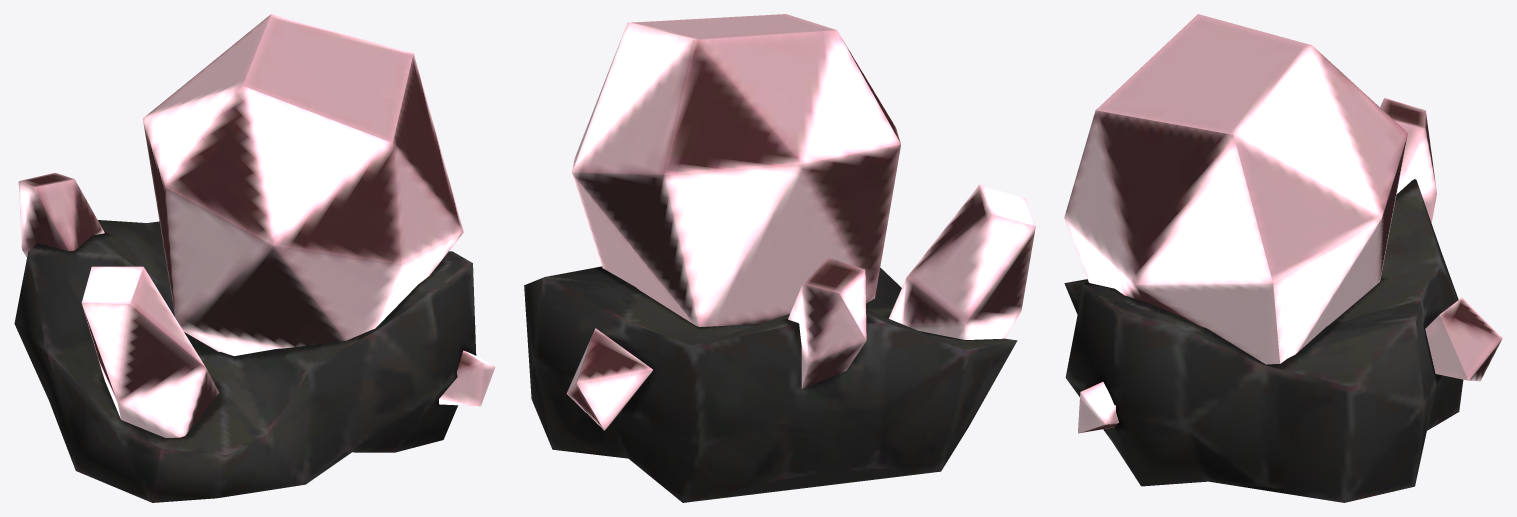
The model's file is Item_Ore_B.glb.
3 renders of one model, left to right at view 1: azimuth 30°, elevation 25°; view 2: azimuth 150°, elevation 25°; view 3: azimuth 270°, elevation 25°, orthographic. The views are drawn at different scales.
Visible parts, largest first — view 1: Item_Ore_B; view 2: Item_Ore_B; view 3: Item_Ore_B.
Part boxes in pixels (<box>): Item_Ore_B: <box>14,14,495,502</box>; Item_Ore_B: <box>524,14,1035,502</box>; Item_Ore_B: <box>1064,14,1502,502</box>.
Size of the model in its own units: 0.5955 by 0.5376 by 0.5387.
2 materials, 2 textured.
